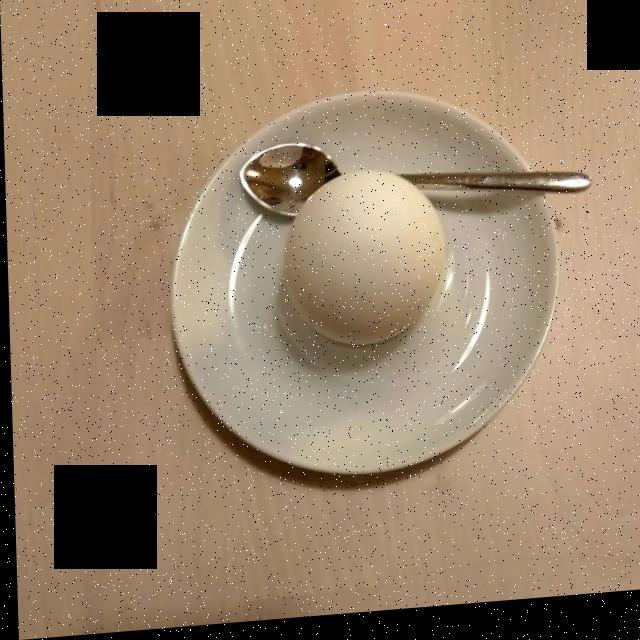egg: (295, 177, 443, 348)
